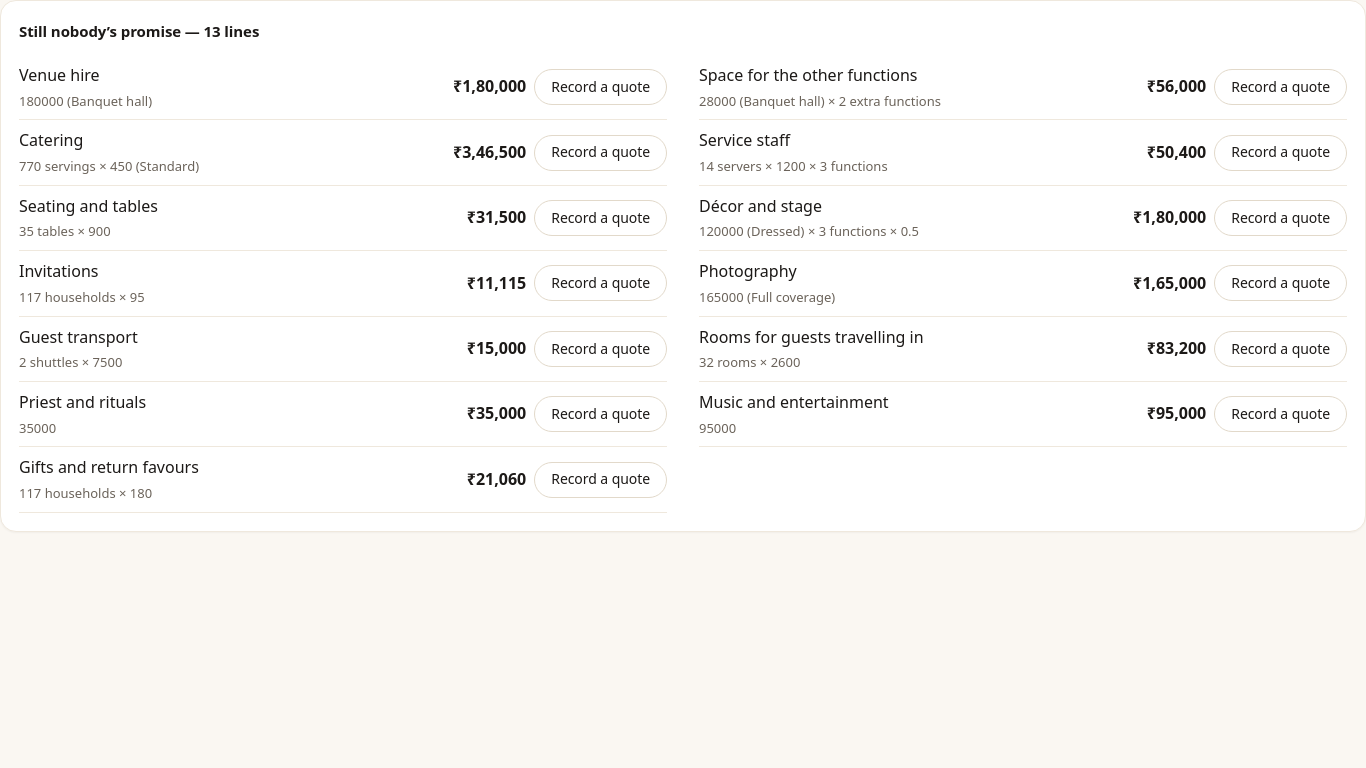
Scenario: VendorsView › removes a quote again
The image size is (1366, 768).
Click the button "Record a quote" in the row of "180000 (Banquet hall)".
click(601, 87)  # box [534,69,667,105]
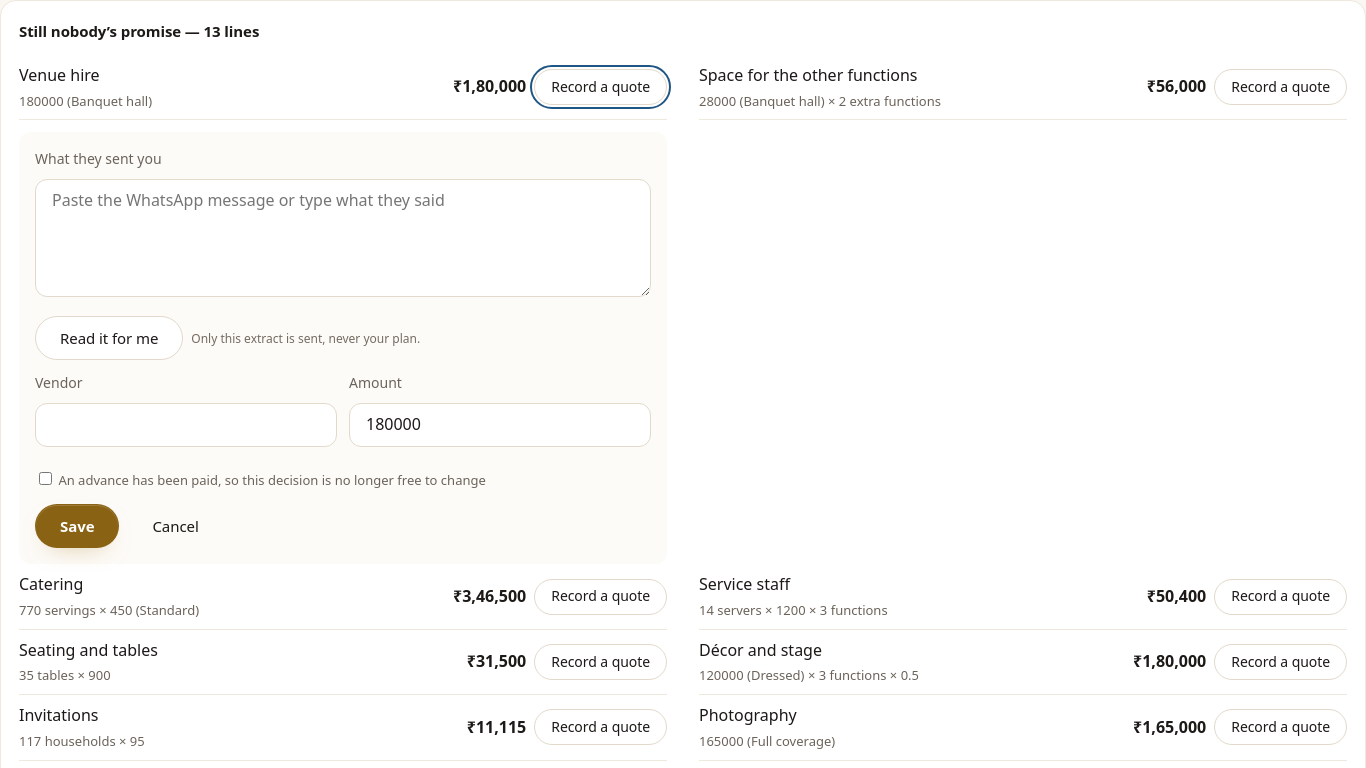
Type "Lotus" into the field labelled "Vendor".
click(186, 425); type("Lotus")  # box [35,403,337,447]
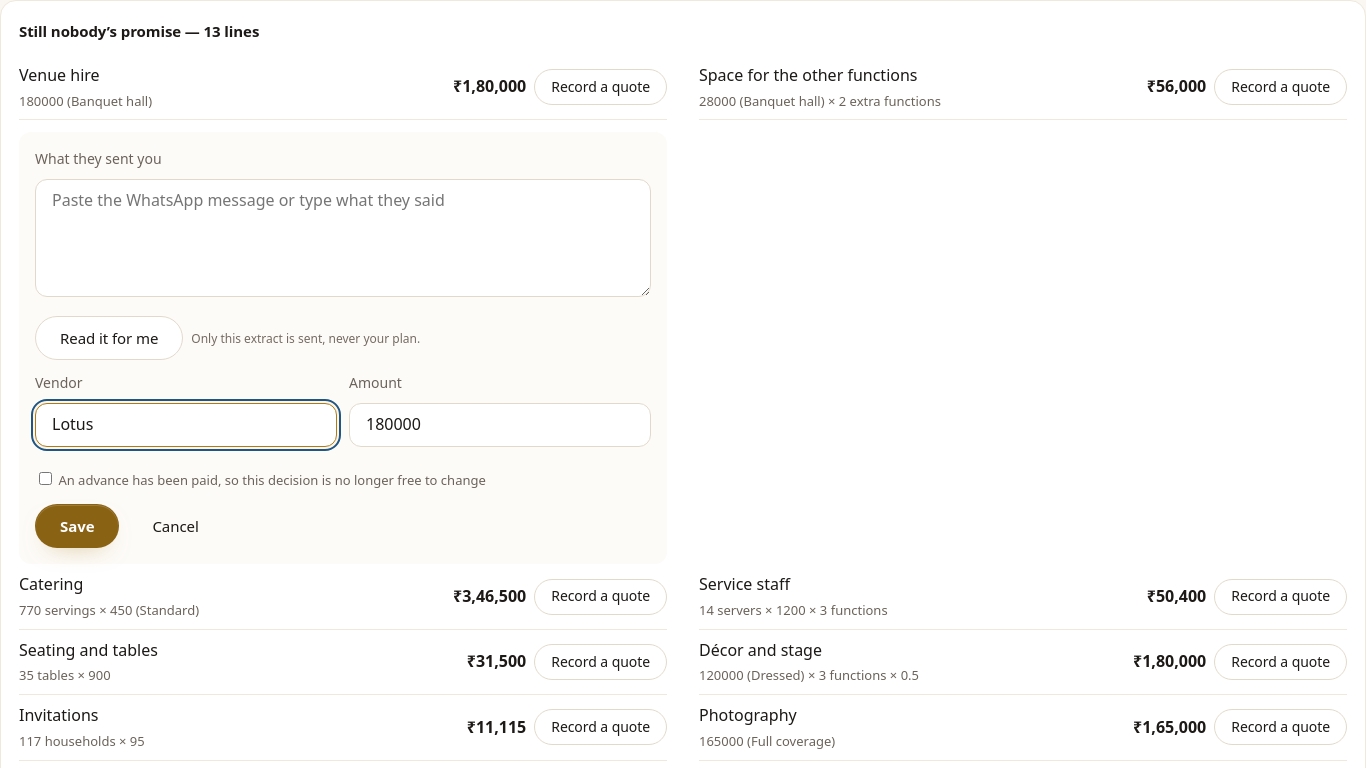
Click the button "Save".
click(77, 526)  # box [35,504,119,548]
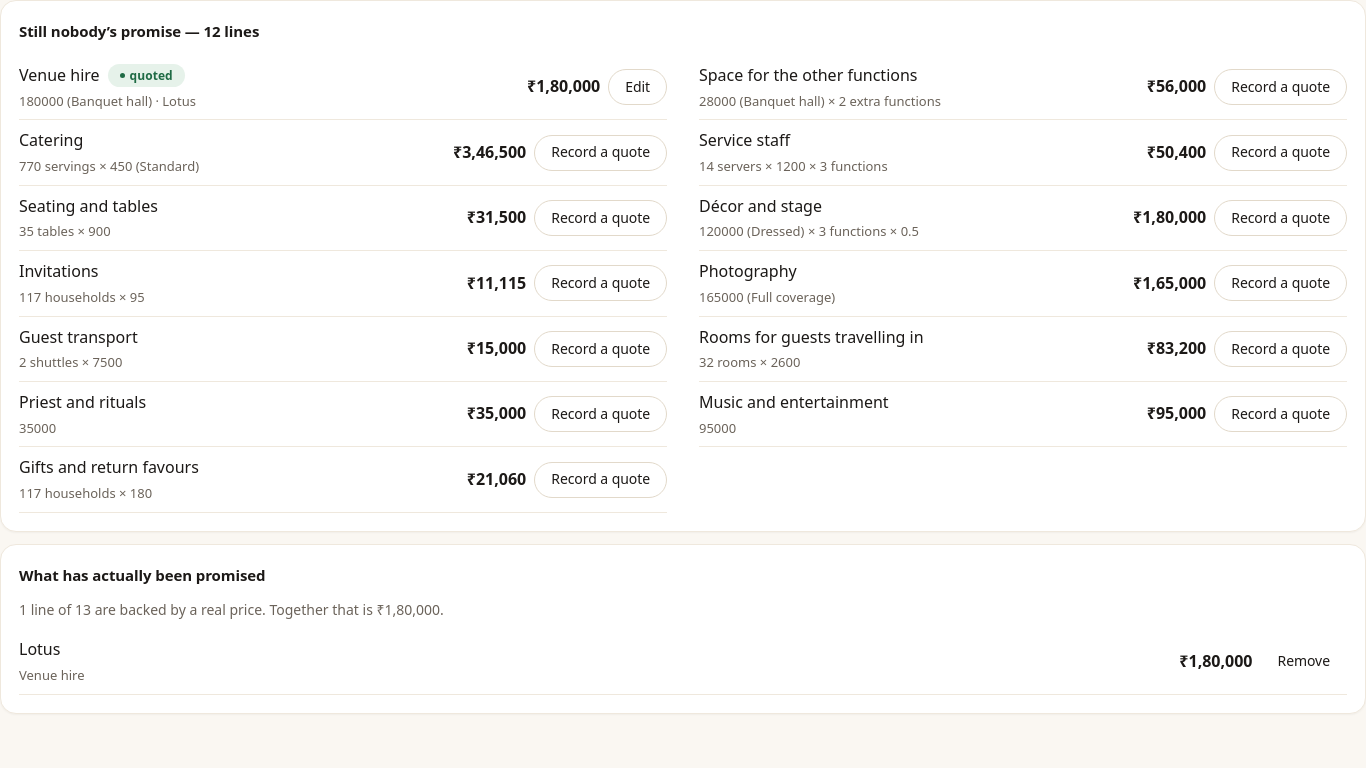
Click the button with aria-label "Remove the quote from Lotus".
click(1304, 661)  # box [1260,643,1347,679]
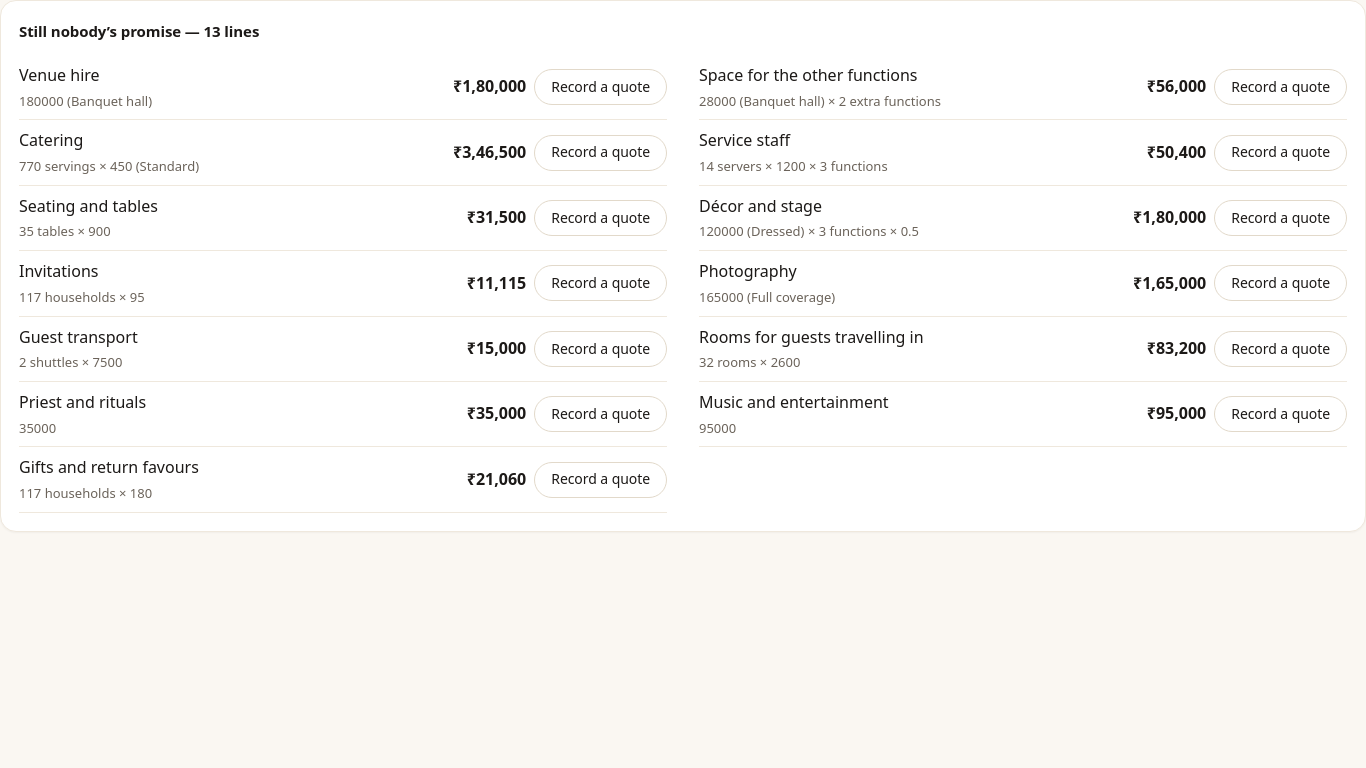
Result: the text "What has actually been promised" is gone
